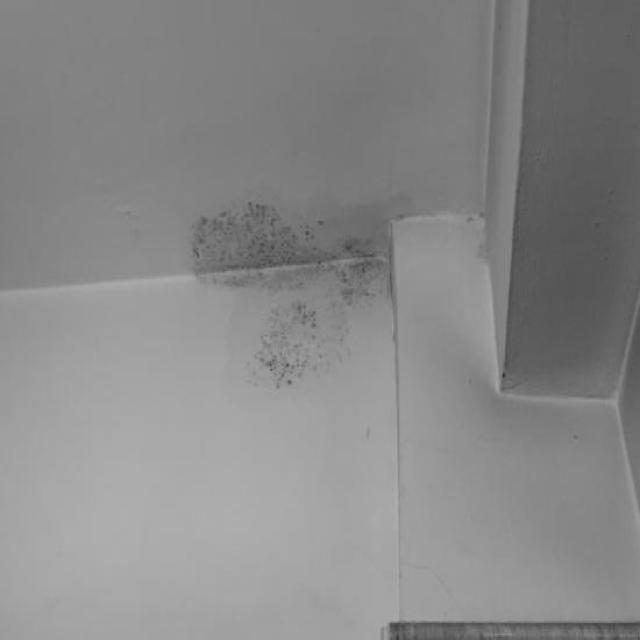stain marks: (188, 196, 391, 392)
